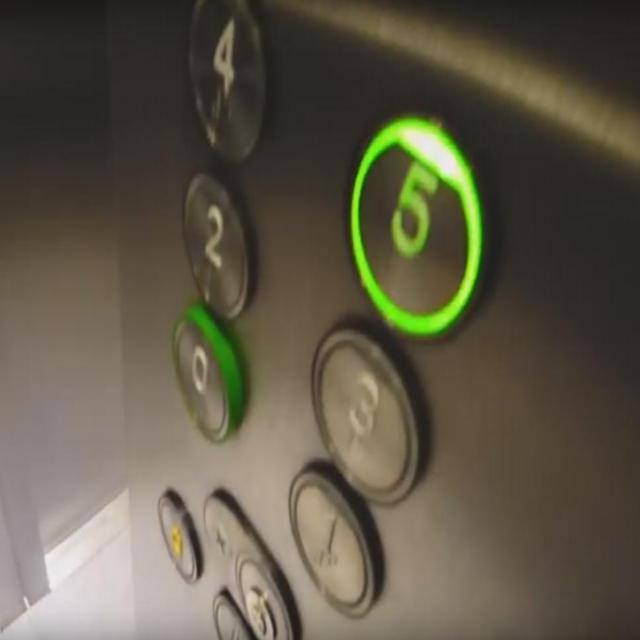0: (170, 303, 244, 445)
1: (288, 459, 385, 622)
2: (182, 164, 256, 325)
3: (310, 312, 432, 508)
4: (186, 0, 269, 168)
5: (342, 108, 491, 343)
alarm: (157, 483, 204, 584)
stop: (202, 486, 298, 639)
